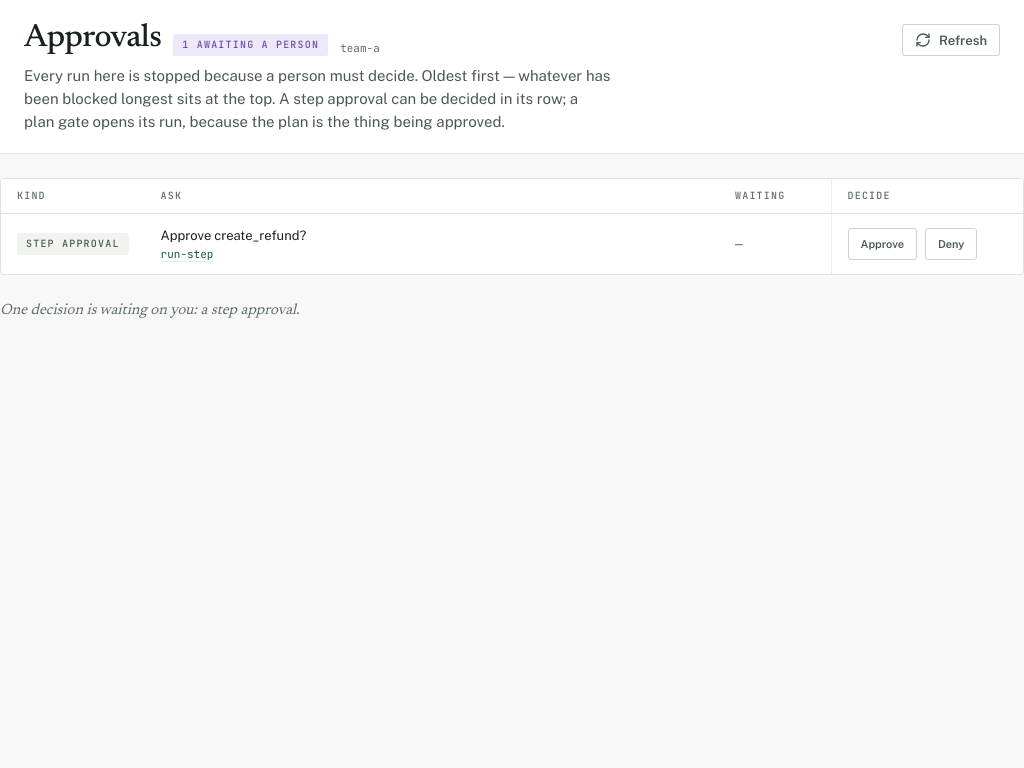
Scenario: ApprovalsPage — inline decide (§4.4 queue budget) › a rejected decision is surfaced, and says the run is still waiting
Step 1. Click the button with test id "approvals-approve-run-step" → click(882, 244), box [848,228,917,260]
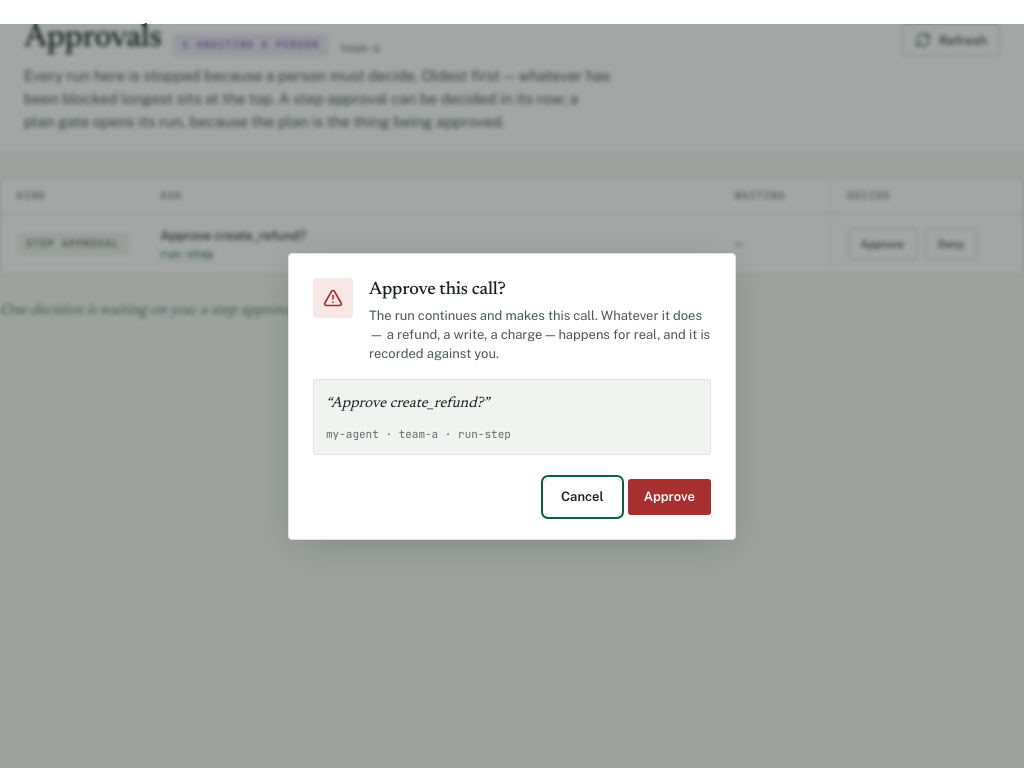
Step 2. Click the button "Approve" → click(669, 496), box [628,478,711,514]
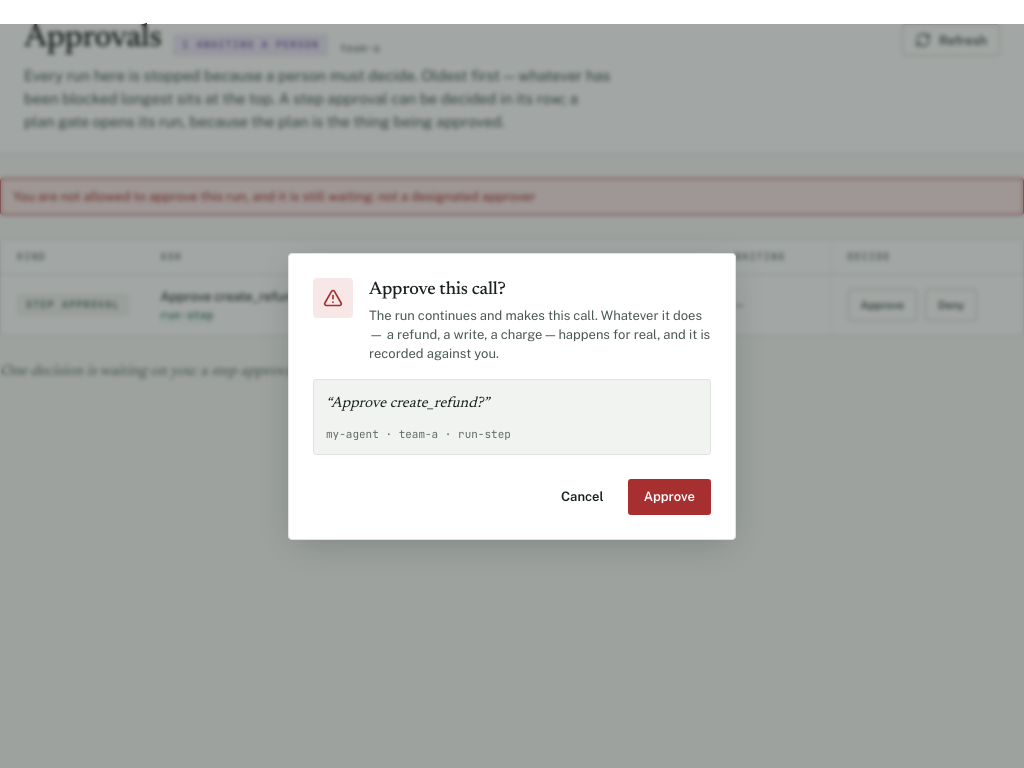
Expected: the button with test id "approvals-approve-run-step" is shown, [848,289,917,321]
Result: the message with test id "approvals-action-error" shows "still waiting" at [13,189,536,204]
